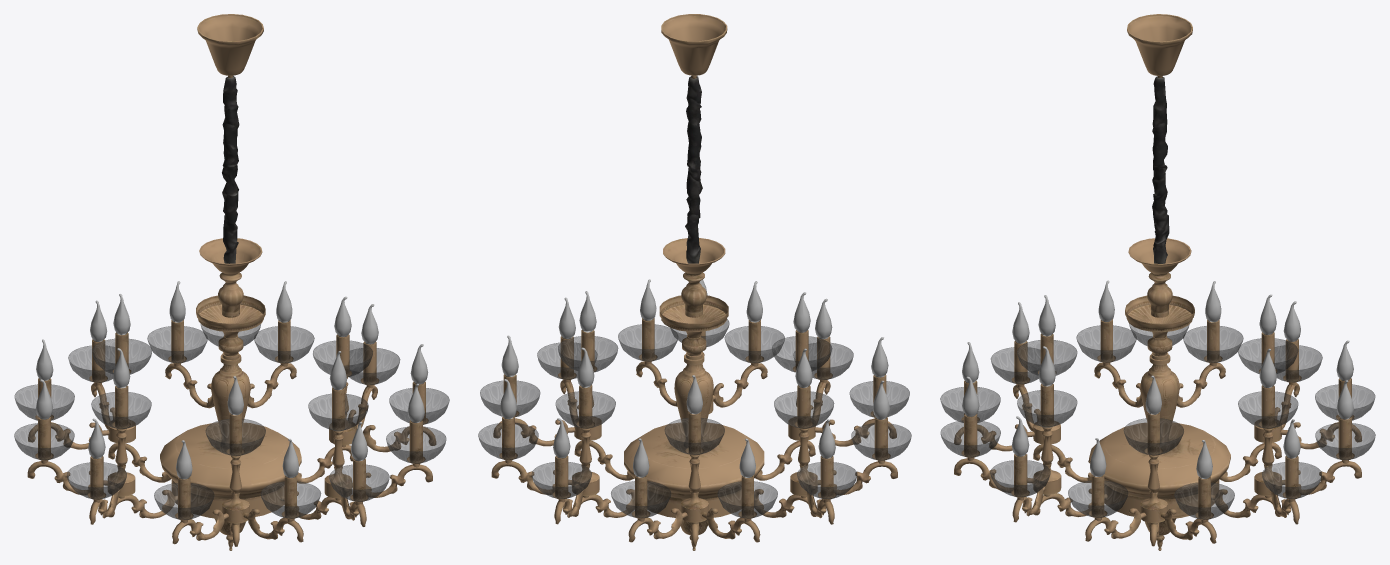
Rendered from Chandelier_03.glb.
3 renders of one model, left to right at view 1: azimuth 30°, elevation 25°; view 2: azimuth 150°, elevation 25°; view 3: azimuth 270°, elevation 25°, orthographic.
Visible parts, largest first — view 1: Chandelier_03; view 2: Chandelier_03; view 3: Chandelier_03.
Boxes of the visible parts, x1=… form: Chandelier_03: x1=14, y1=14, x2=449, y2=550; Chandelier_03: x1=478, y1=14, x2=911, y2=550; Chandelier_03: x1=940, y1=14, x2=1375, y2=550.
Bounding box in the file's own units: 0.7804 × 1.04 × 0.7855.
Materials: 2 (2 with a texture image).
